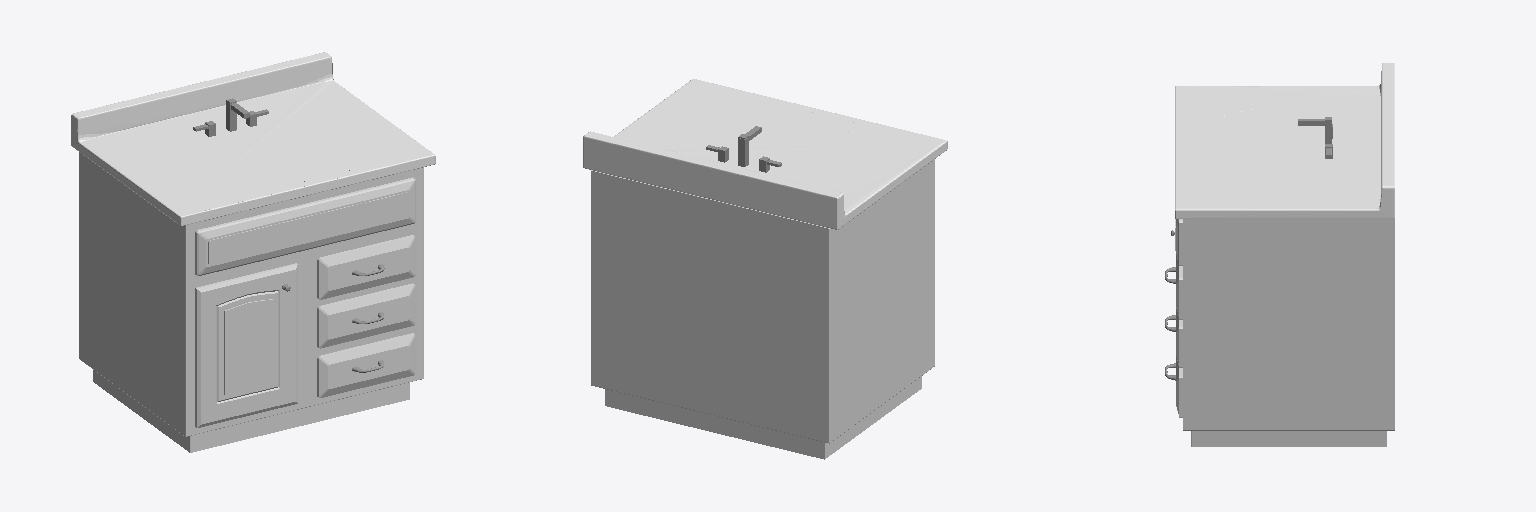
File: modernVanity.obj
3 views of the same model, side by side, from view 1: azimuth 30°, elevation 25°; view 2: azimuth 150°, elevation 25°; view 3: azimuth 270°, elevation 25° (orthographic).
Parts seen in each view (by area): view 1: Cabinet_Cube.001, Sink_Sink_Top, Faucet_Cube; view 2: Cabinet_Cube.001, Sink_Sink_Top, Faucet_Cube; view 3: Cabinet_Cube.001, Sink_Sink_Top.
Part boxes in pixels (left/top/right/bottom): Cabinet_Cube.001: left=79, top=152, right=423, bottom=452; Sink_Sink_Top: left=71, top=52, right=435, bottom=225; Faucet_Cube: left=193, top=98, right=268, bottom=136; Cabinet_Cube.001: left=591, top=159, right=934, bottom=459; Sink_Sink_Top: left=583, top=79, right=947, bottom=229; Faucet_Cube: left=706, top=126, right=781, bottom=172; Cabinet_Cube.001: left=1175, top=219, right=1394, bottom=446; Sink_Sink_Top: left=1175, top=63, right=1394, bottom=218.
Size of the model in its own units: 90.43 by 93.29 by 70.78.